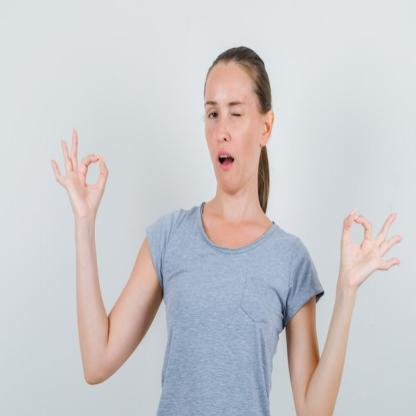ok: (336, 207, 404, 294), (50, 124, 110, 216)
